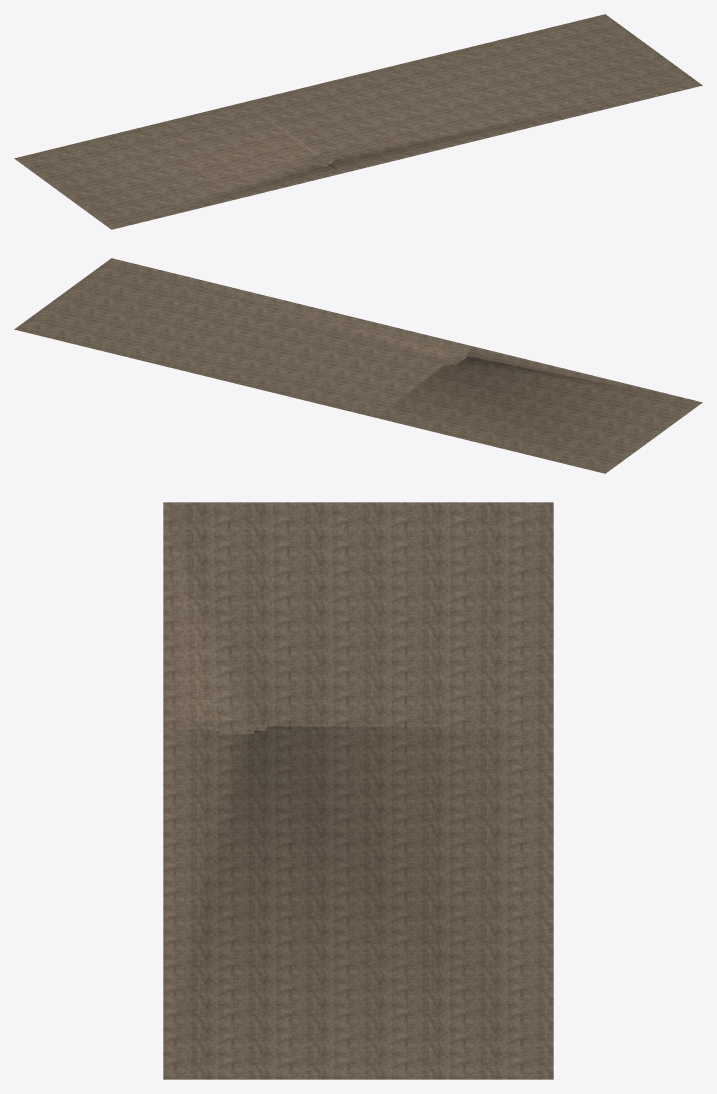
The model's file is mdl_ground_withHole.fbx.
The picture shows the model from 3 angles, top to bottom: view 1: azimuth 30°, elevation 25°; view 2: azimuth 150°, elevation 25°; view 3: azimuth 270°, elevation 25°; orthographic projection. The views are drawn at different scales.
Visible parts, largest first — view 1: mesh_ground; view 2: mesh_ground; view 3: mesh_ground.
Boxes of the visible parts, <box> form: mesh_ground: <box>14,14,702,229</box>; mesh_ground: <box>14,258,702,473</box>; mesh_ground: <box>163,502,553,1079</box>.
Bounding box in the file's own units: 21 × 0.1219 × 6.
